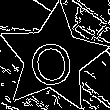O_N: (27, 29, 78, 88)
